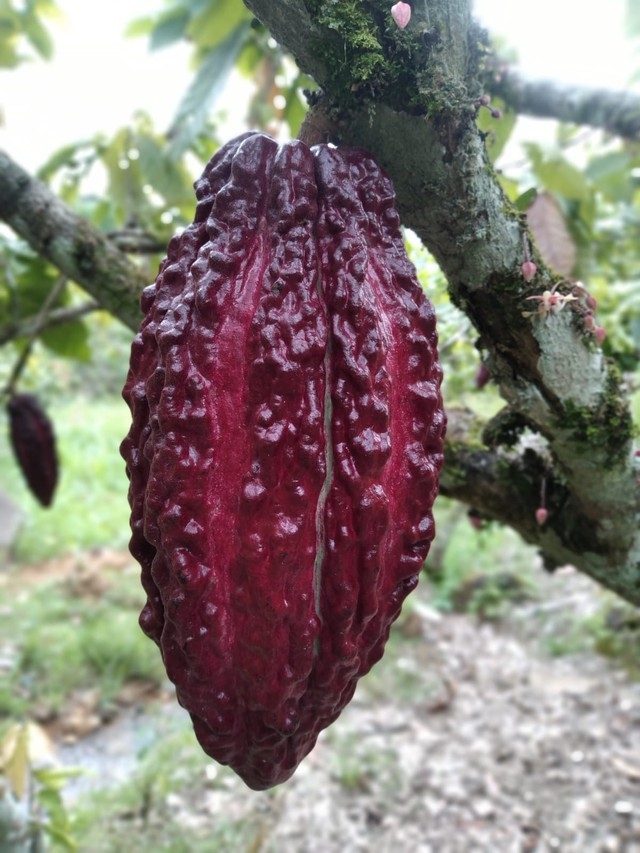Health: (77, 120, 464, 807)
